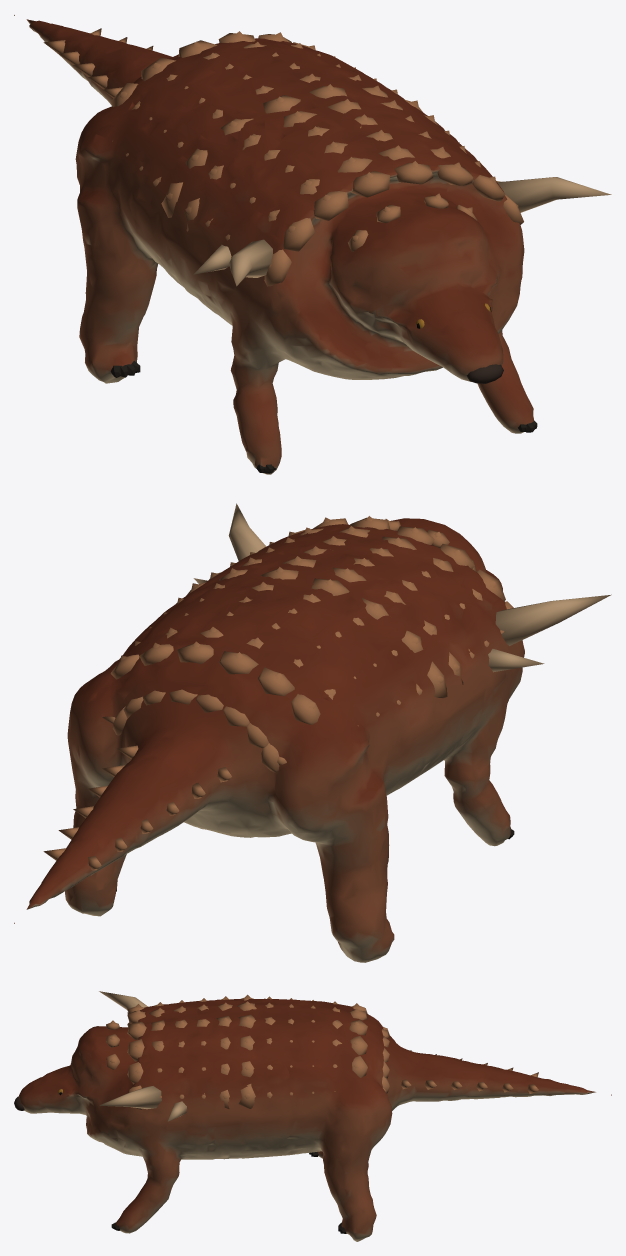
Rendered from Borealopelta.fbx.
3 views of the same model, one above another, from view 1: azimuth 30°, elevation 25°; view 2: azimuth 150°, elevation 25°; view 3: azimuth 270°, elevation 25° (orthographic). The views are drawn at different scales.
Parts seen in each view (by area): view 1: Borealopelta; view 2: Borealopelta; view 3: Borealopelta.
Boxes of the visible parts, x1,y1,x2,y2 form: Borealopelta: (14,15,611,474); Borealopelta: (14,503,611,962); Borealopelta: (14,991,611,1241).
Size of the model in its own units: 0.7459 by 0.5867 by 1.64.
